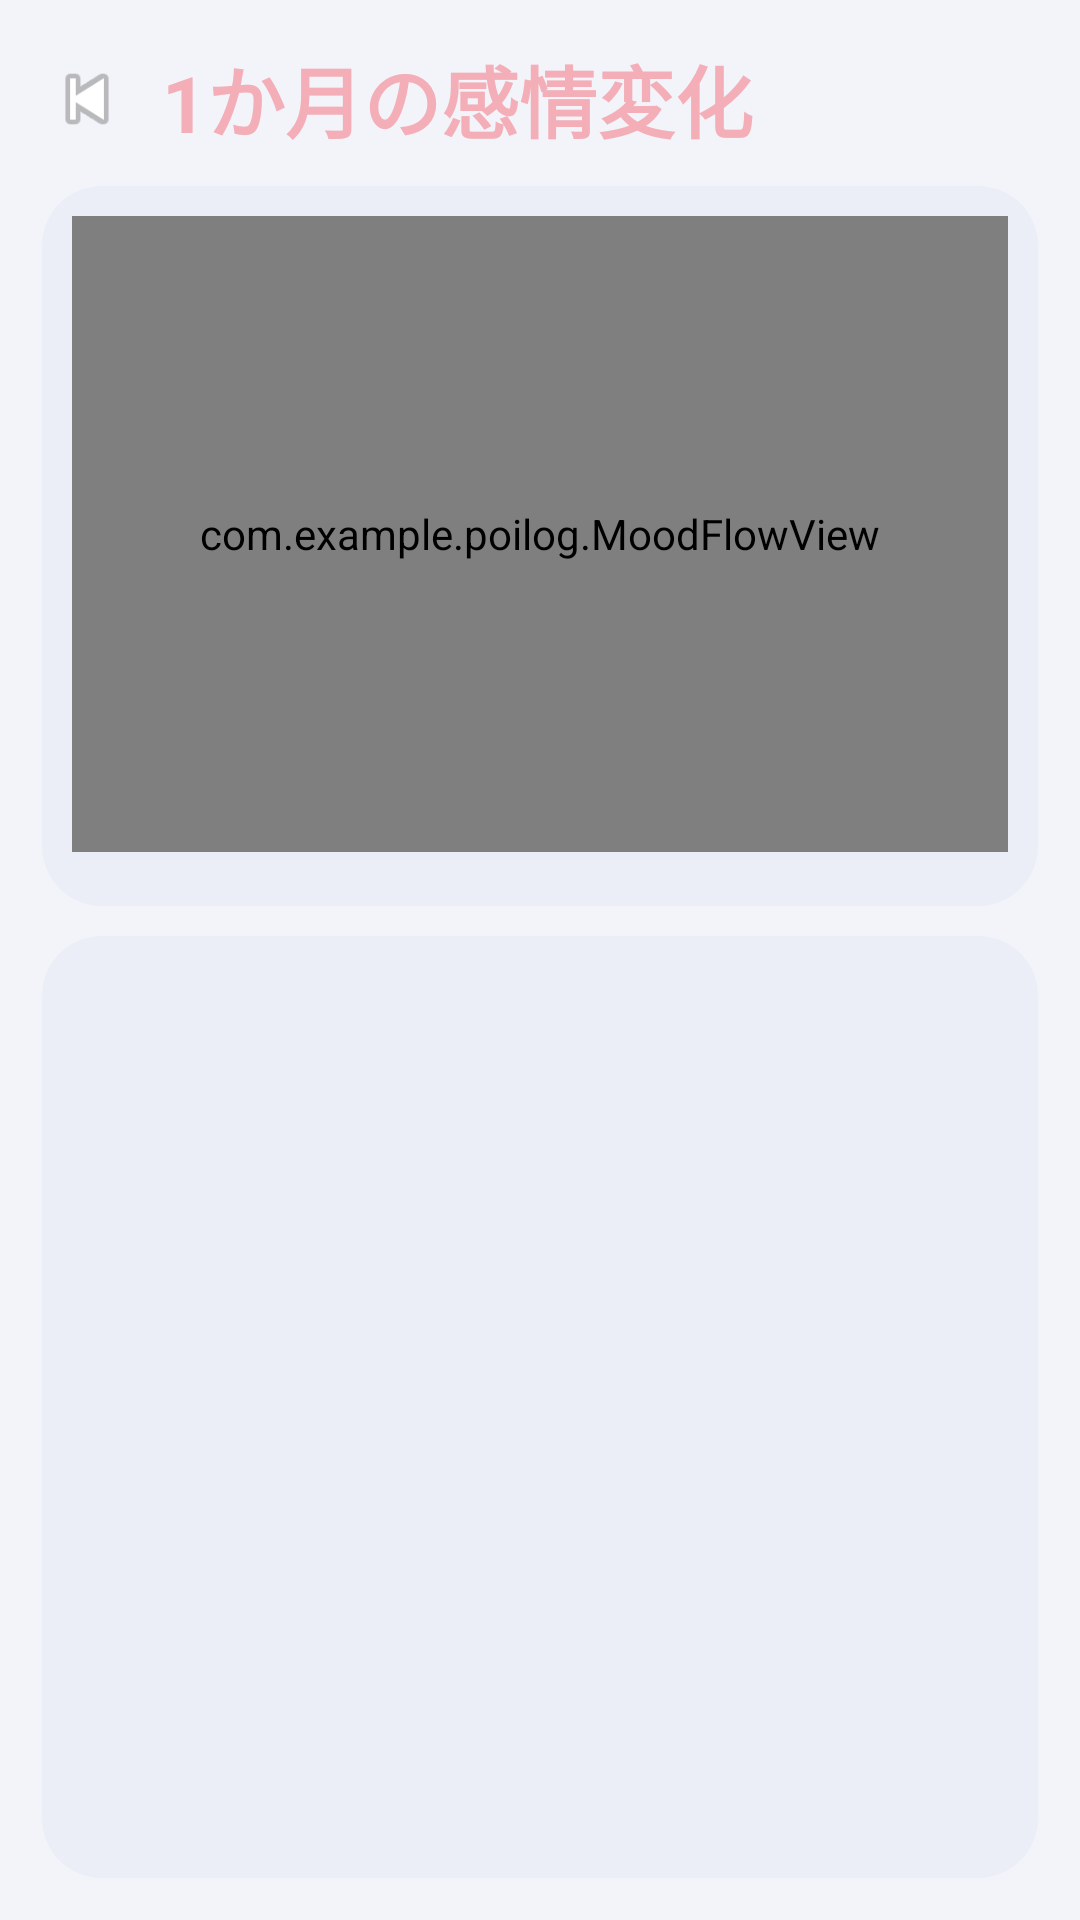

Locate icon controls on the screen. Image size 1080px x 1920px, boxes as (x1, y1, x2, y2).
back: (65, 73, 109, 125)
